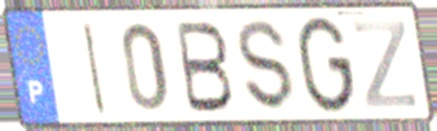0: (119, 19, 173, 116)
B: (173, 19, 236, 115)
G: (295, 13, 357, 117)
I: (80, 19, 109, 118)
S: (235, 18, 297, 114)
Z: (351, 17, 419, 111)
